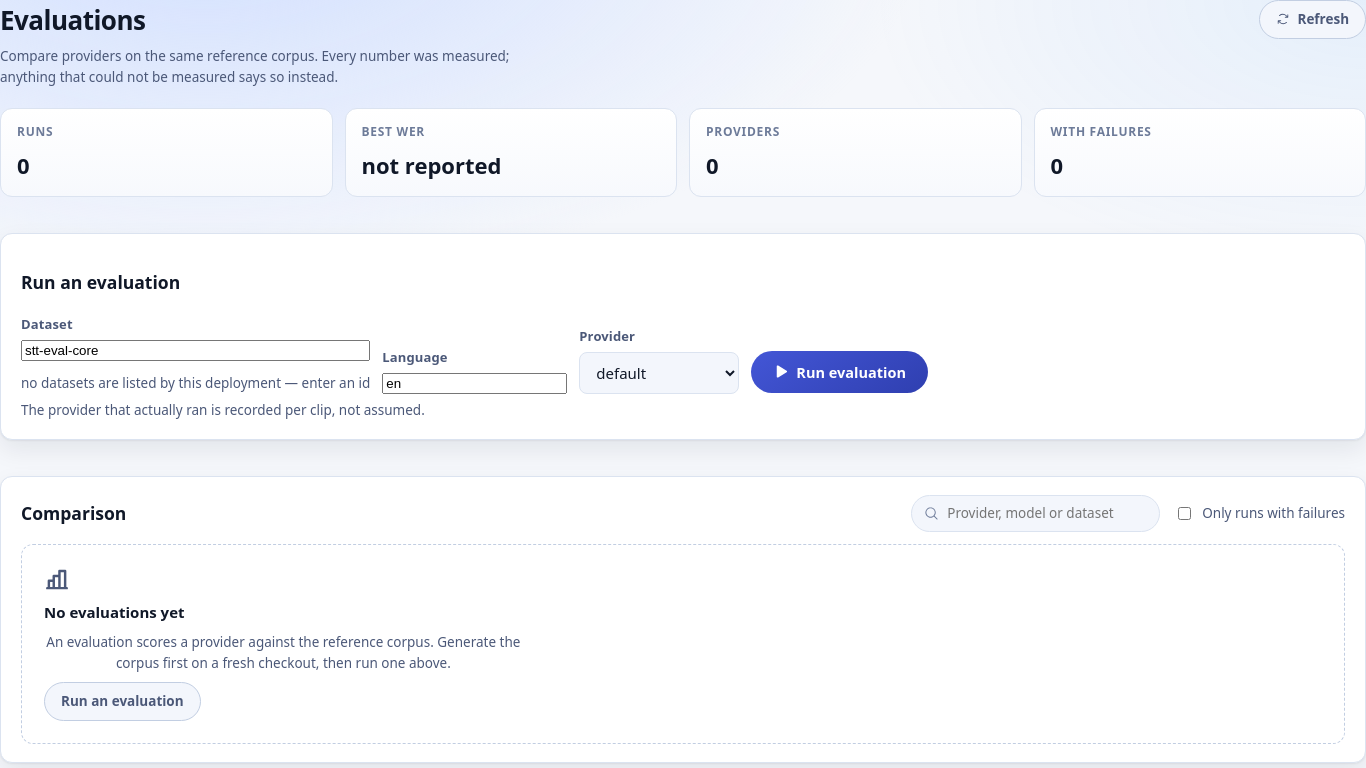
Test case: a dataset without generated audio shows the actionable error
The width and height of the screenshot is (1366, 768).
What coordinates should you click on to do the following:
click the button "Run evaluation"
I would click on:
 (840, 372)
Its box is [751, 351, 928, 393].
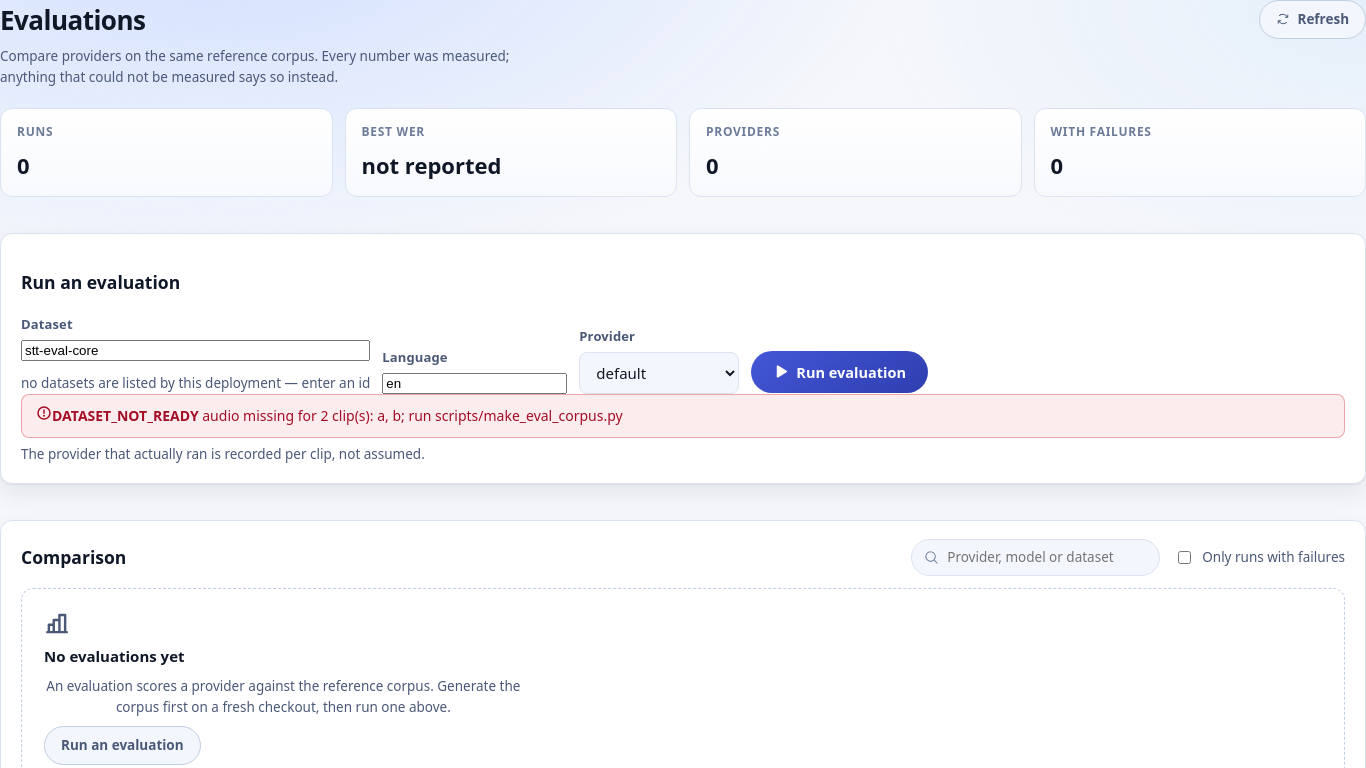
Expected: the message shows "DATASET_NOT_READY", [52, 406, 199, 425]
Expected: the message shows "make_eval_corpus", [202, 406, 623, 425]
